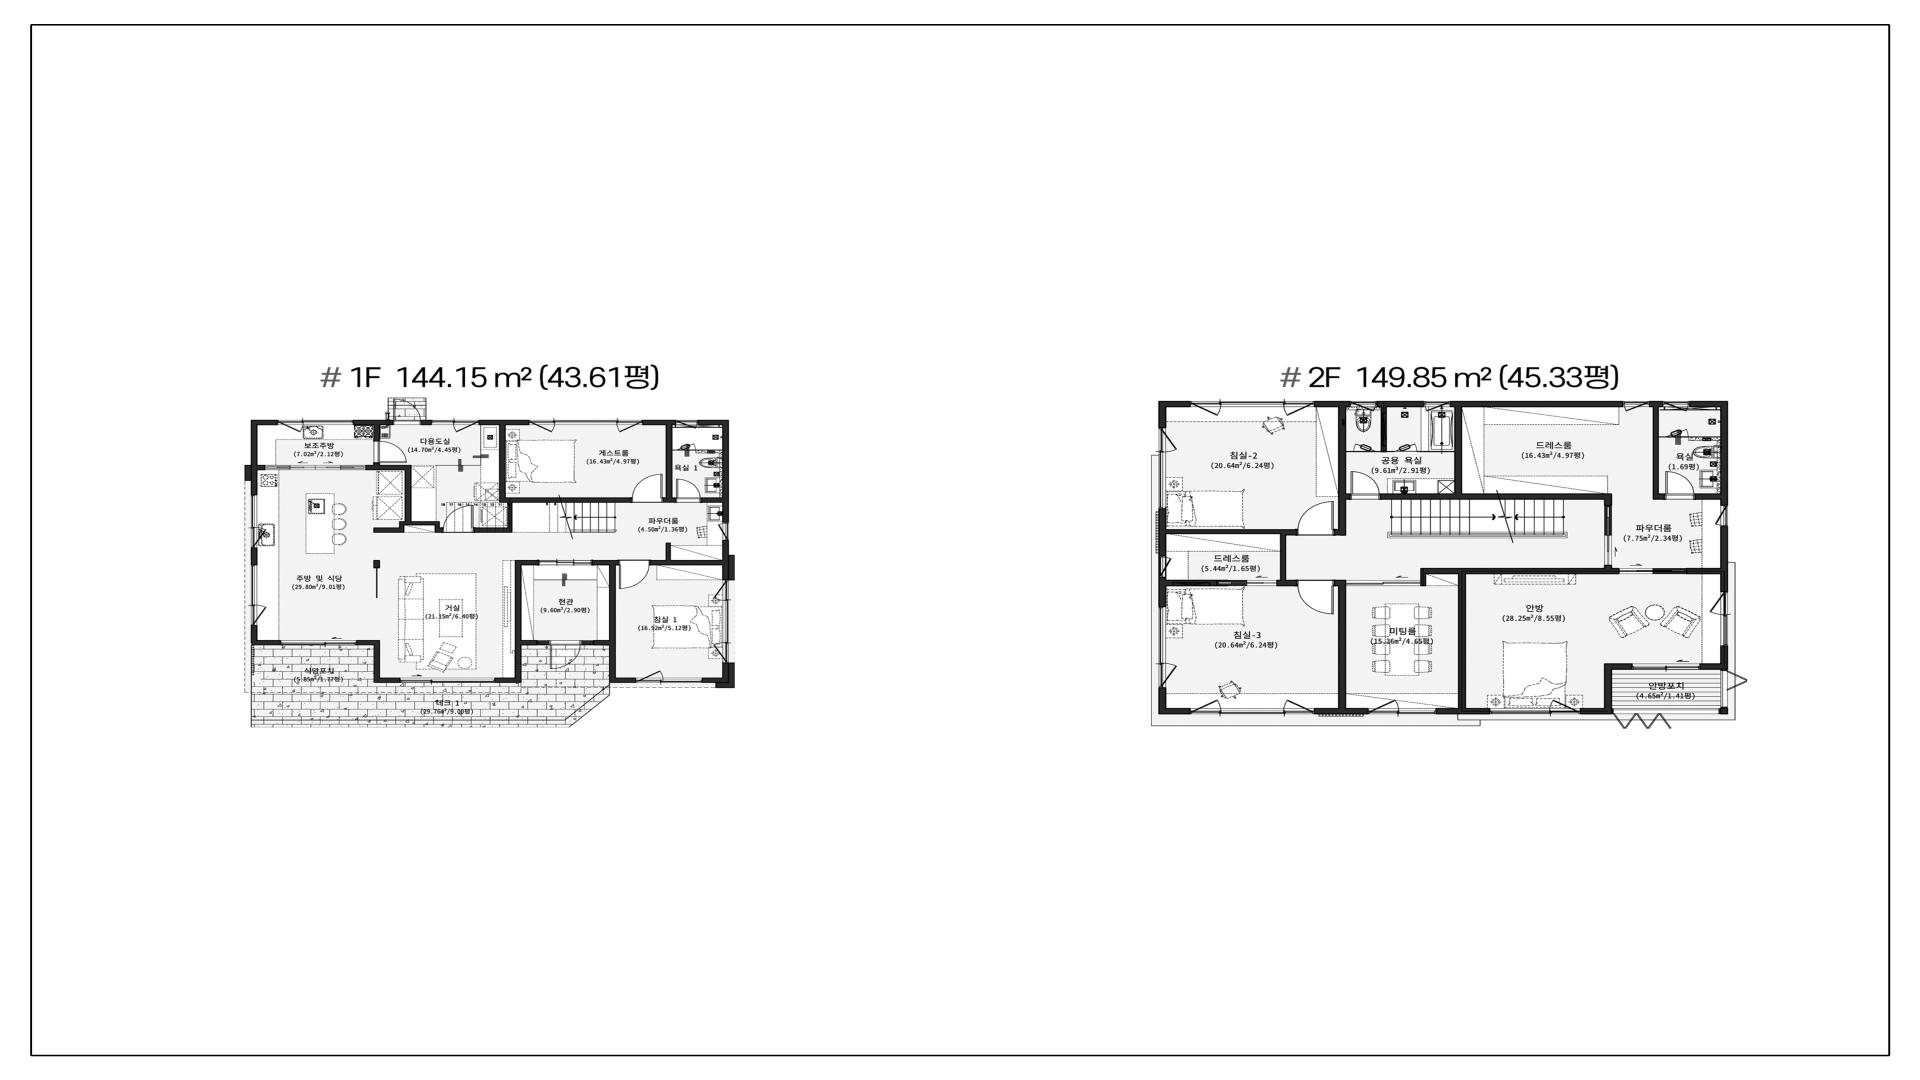door: (1295, 580, 1335, 615), (1295, 501, 1336, 535), (1663, 471, 1696, 500), (631, 474, 664, 503), (549, 640, 581, 669), (618, 560, 650, 589), (1349, 471, 1382, 499), (442, 505, 475, 533), (373, 440, 407, 463), (393, 399, 421, 425), (676, 478, 701, 502), (1604, 505, 1612, 565), (1346, 580, 1421, 586), (1619, 568, 1687, 574), (1216, 580, 1277, 586), (1353, 443, 1376, 452), (1395, 443, 1417, 452), (672, 443, 696, 451), (1666, 429, 1689, 437)
wall: (698, 420, 729, 523), (1382, 493, 1612, 505), (1580, 663, 1632, 714), (515, 560, 538, 640), (1426, 565, 1619, 574), (1335, 580, 1346, 708), (475, 503, 513, 533), (1458, 574, 1466, 708), (1450, 401, 1623, 407), (1338, 407, 1349, 499), (1653, 407, 1663, 500), (664, 425, 676, 502), (1158, 401, 1191, 428), (1158, 688, 1191, 714), (1376, 407, 1395, 452), (1720, 401, 1728, 505), (703, 662, 735, 688), (373, 521, 442, 533), (1280, 529, 1295, 580), (506, 497, 631, 503), (1454, 407, 1462, 493), (1700, 646, 1728, 670), (244, 465, 265, 495), (1166, 529, 1280, 534), (499, 425, 506, 503), (1720, 526, 1728, 592), (609, 565, 616, 640), (722, 540, 735, 580), (1158, 508, 1166, 556), (1336, 499, 1346, 535), (650, 560, 722, 565), (405, 470, 412, 521), (1314, 708, 1368, 714), (1436, 708, 1490, 714), (366, 463, 412, 470), (1166, 580, 1216, 586), (1377, 401, 1424, 407), (251, 425, 258, 465), (515, 645, 522, 683), (479, 420, 529, 425), (1158, 577, 1166, 607), (609, 645, 616, 678), (374, 640, 380, 678), (1314, 401, 1350, 407), (1687, 568, 1720, 574), (354, 420, 393, 425), (1690, 401, 1720, 407), (581, 640, 616, 645), (515, 640, 549, 645), (1696, 493, 1720, 500), (642, 420, 675, 425), (609, 677, 636, 683), (251, 640, 281, 645), (701, 497, 723, 503), (374, 678, 400, 683), (251, 420, 277, 425), (593, 560, 618, 565), (373, 425, 381, 440), (251, 548, 258, 565), (1420, 568, 1426, 586), (1277, 580, 1295, 586), (251, 625, 258, 640), (495, 678, 515, 683), (356, 640, 374, 645), (666, 543, 671, 560), (1650, 401, 1663, 407), (421, 420, 432, 425), (1417, 451, 1454, 452), (1689, 436, 1720, 437), (1346, 451, 1353, 452), (1659, 436, 1666, 437)
window: (1190, 708, 1314, 714), (1191, 401, 1314, 407), (1158, 607, 1166, 688), (1158, 428, 1166, 508), (1490, 708, 1580, 714), (265, 465, 366, 470), (723, 600, 735, 642), (712, 642, 735, 663), (1632, 663, 1700, 670), (400, 678, 495, 683), (713, 580, 735, 600), (1720, 592, 1728, 646), (1368, 708, 1436, 714), (281, 640, 356, 645), (636, 670, 663, 683), (453, 420, 479, 433), (616, 420, 642, 433), (529, 420, 554, 433), (251, 527, 266, 548), (277, 420, 303, 432), (554, 420, 616, 425), (251, 605, 266, 625), (1663, 401, 1690, 412), (1623, 401, 1650, 412), (1158, 556, 1172, 577), (538, 560, 594, 565), (1715, 505, 1728, 526), (1350, 401, 1377, 411), (1424, 401, 1450, 411), (303, 420, 354, 425), (663, 677, 703, 683), (251, 565, 257, 605), (251, 495, 257, 527), (718, 523, 729, 540), (675, 420, 698, 428), (432, 420, 453, 425)
